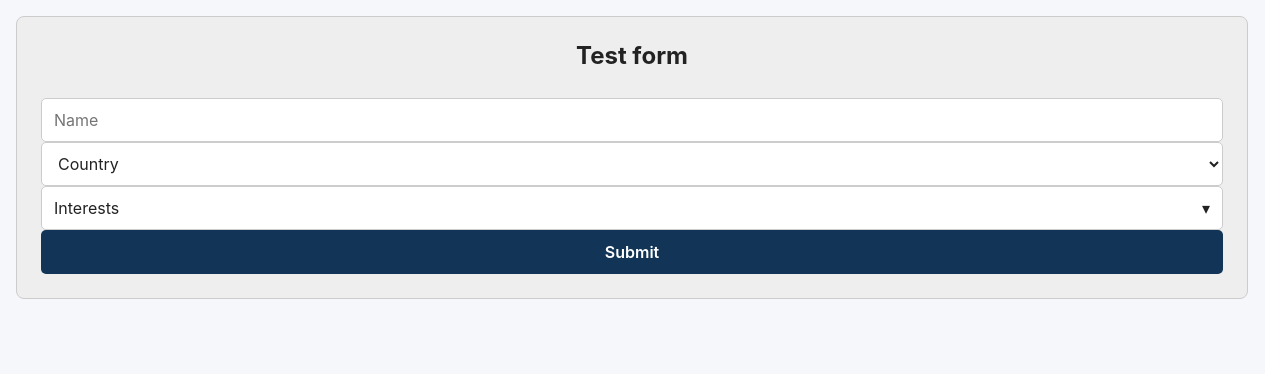
Test: Form › shows field errors and does not submit invalid values
The width and height of the screenshot is (1265, 374).
Click the button "Submit".
click(632, 252)  # box [41,230,1223,274]
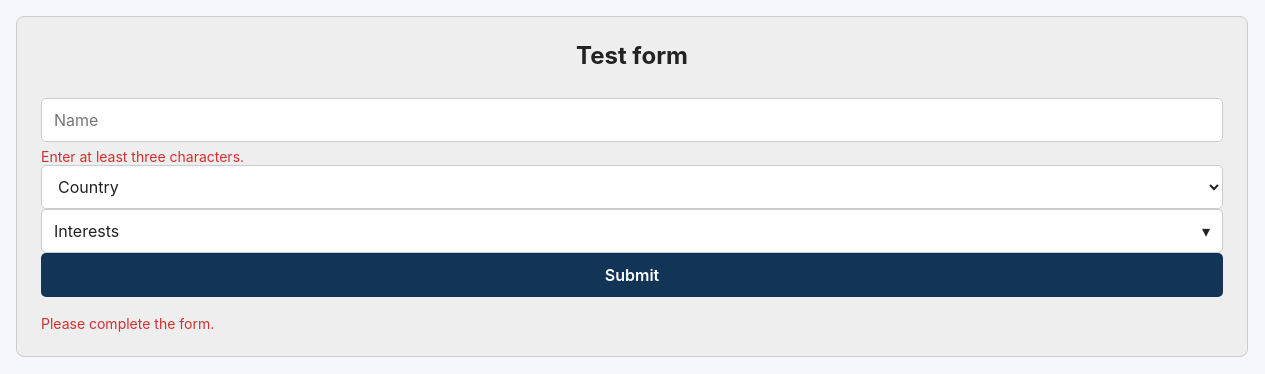
Check: the message reads "Please complete the form.", box [41,315,214,332]
Check: the text "Enter at least three characters." is shown, box [41,148,244,165]
